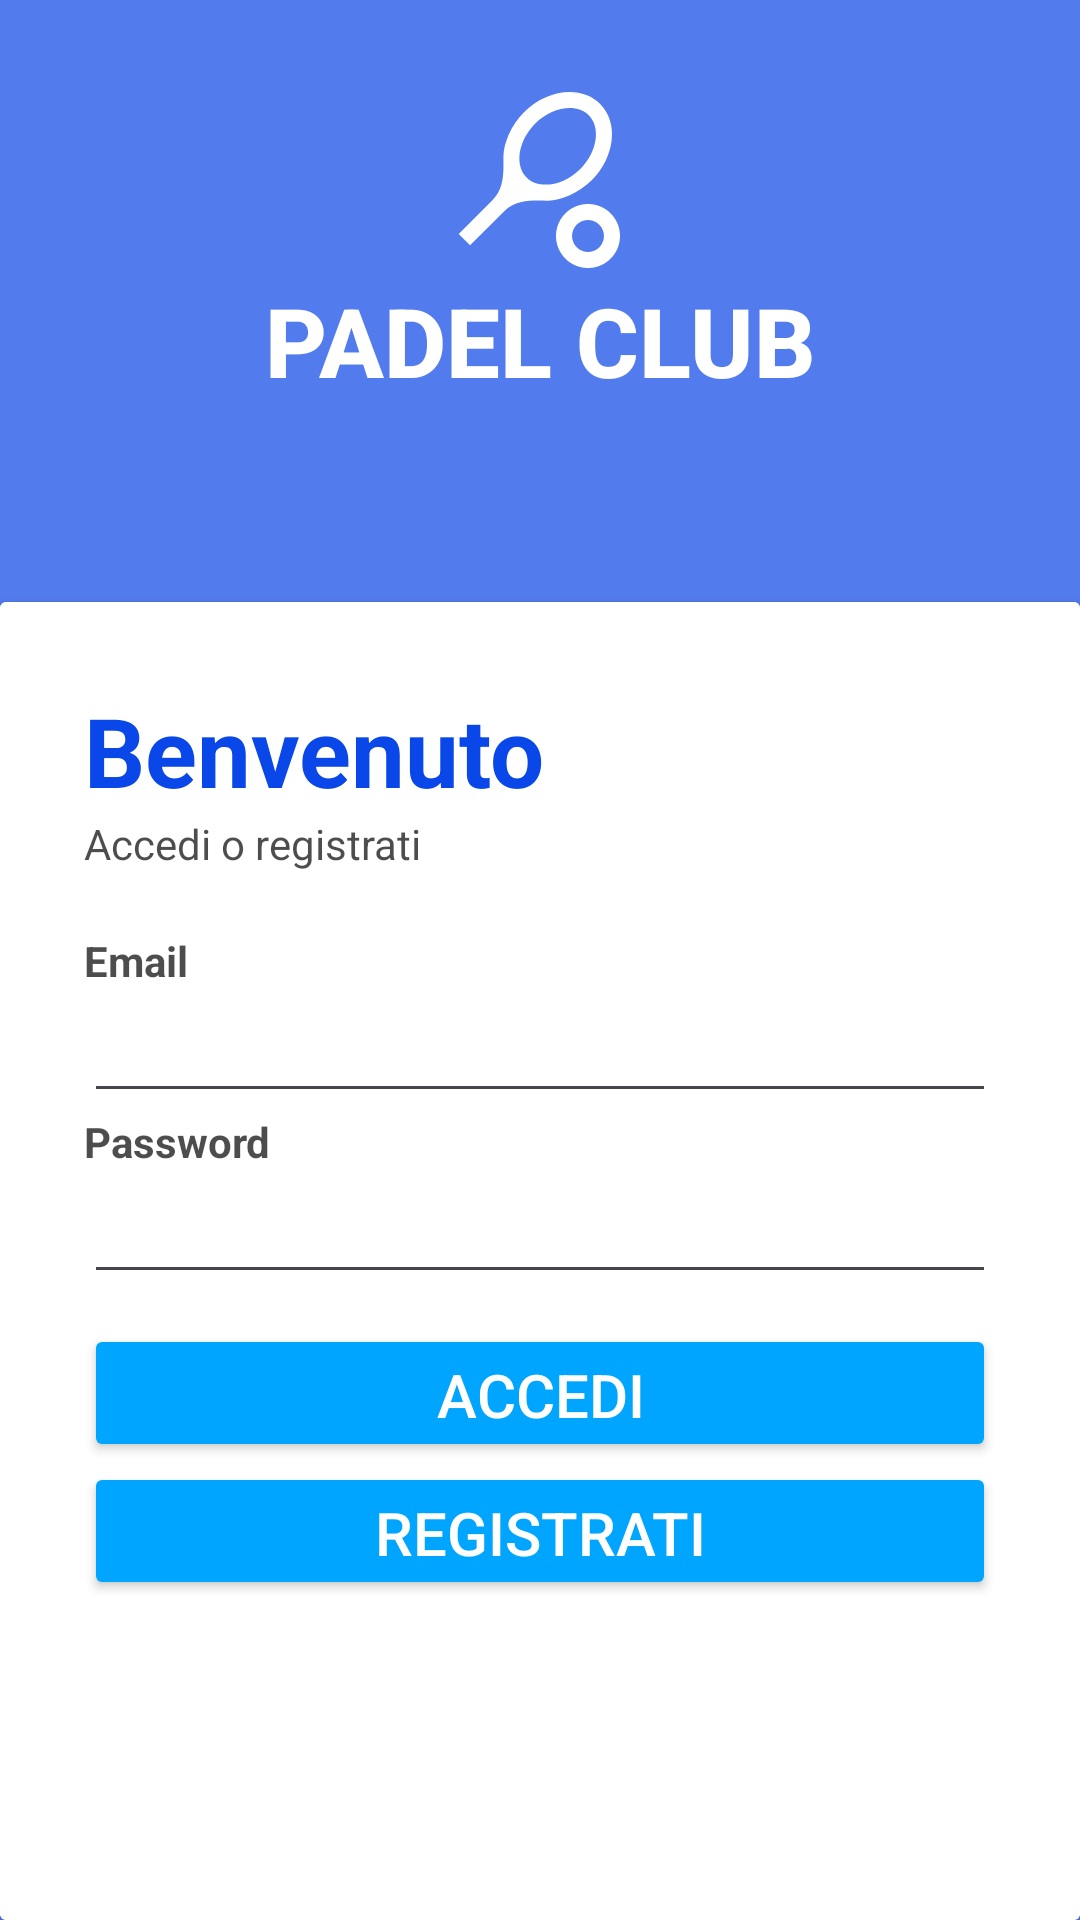

Screen size 1080 x 1920. Icon name, then its center in pixels as [x,y]:
sports tennis: [539,180]
